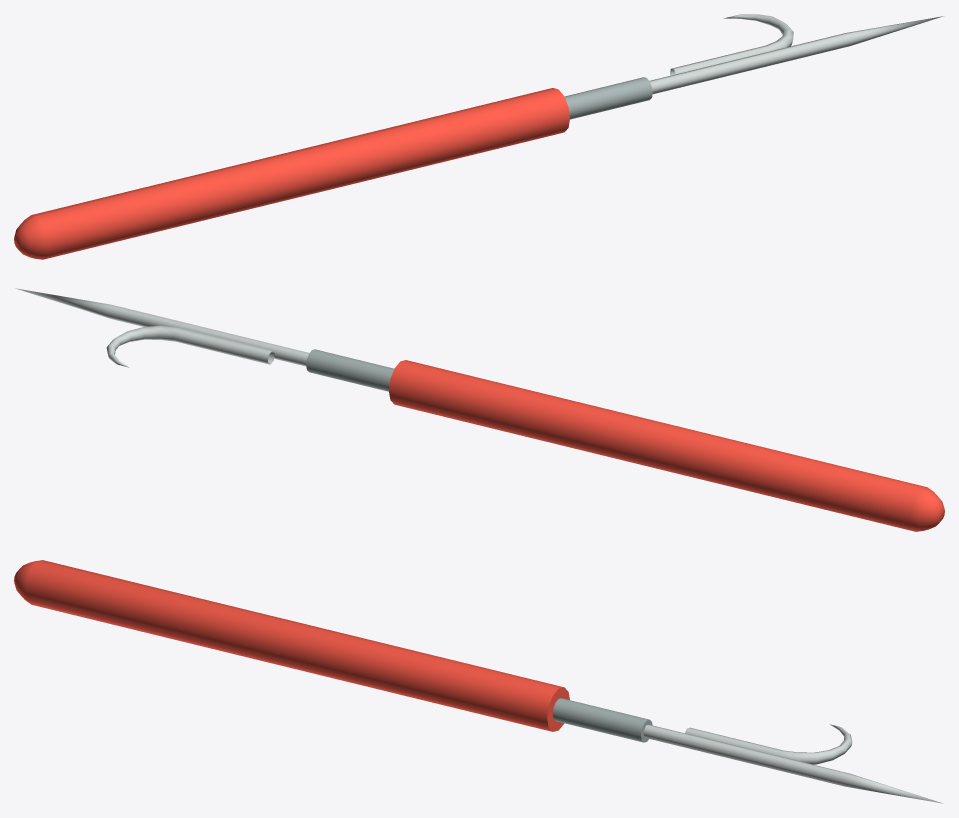
Rendered from Hook.fbx.
3 renders of one model, top to bottom at view 1: azimuth 30°, elevation 25°; view 2: azimuth 150°, elevation 25°; view 3: azimuth 330°, elevation 25°, orthographic.
Parts seen in each view (by area): view 1: Hook; view 2: Hook; view 3: Hook.
Boxes of the visible parts, box(x1,y1,x2,y2) form: Hook: box(14, 14, 943, 259); Hook: box(15, 288, 944, 531); Hook: box(14, 560, 943, 803).
Bounding box in the file's own units: 2.4 × 0.1033 × 0.288.
